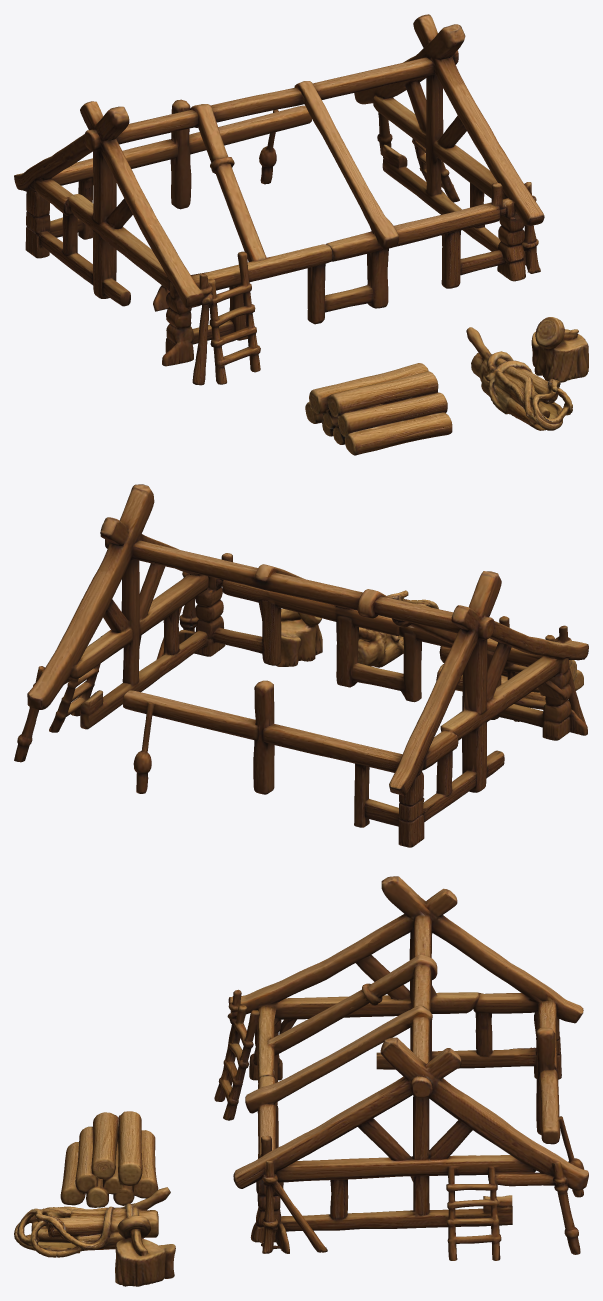
File: tripo_convert_d44bbf88-defe-4e81-82b6-bffca01ee321.fbx
3 views of the same model, one above another, from view 1: azimuth 30°, elevation 25°; view 2: azimuth 150°, elevation 25°; view 3: azimuth 270°, elevation 25° (orthographic). The views are drawn at different scales.
Visible parts, largest first — view 1: tripo_node_d44bbf88; view 2: tripo_node_d44bbf88; view 3: tripo_node_d44bbf88.
Boxes of the visible parts, x1=… form: tripo_node_d44bbf88: x1=14, y1=14, x2=588, y2=455; tripo_node_d44bbf88: x1=14, y1=484, x2=588, y2=847; tripo_node_d44bbf88: x1=14, y1=876, x2=588, y2=1286.
Bounding box in the file's own units: 0.7765 × 0.4645 × 0.98.
Materials: 1 (1 with a texture image).
